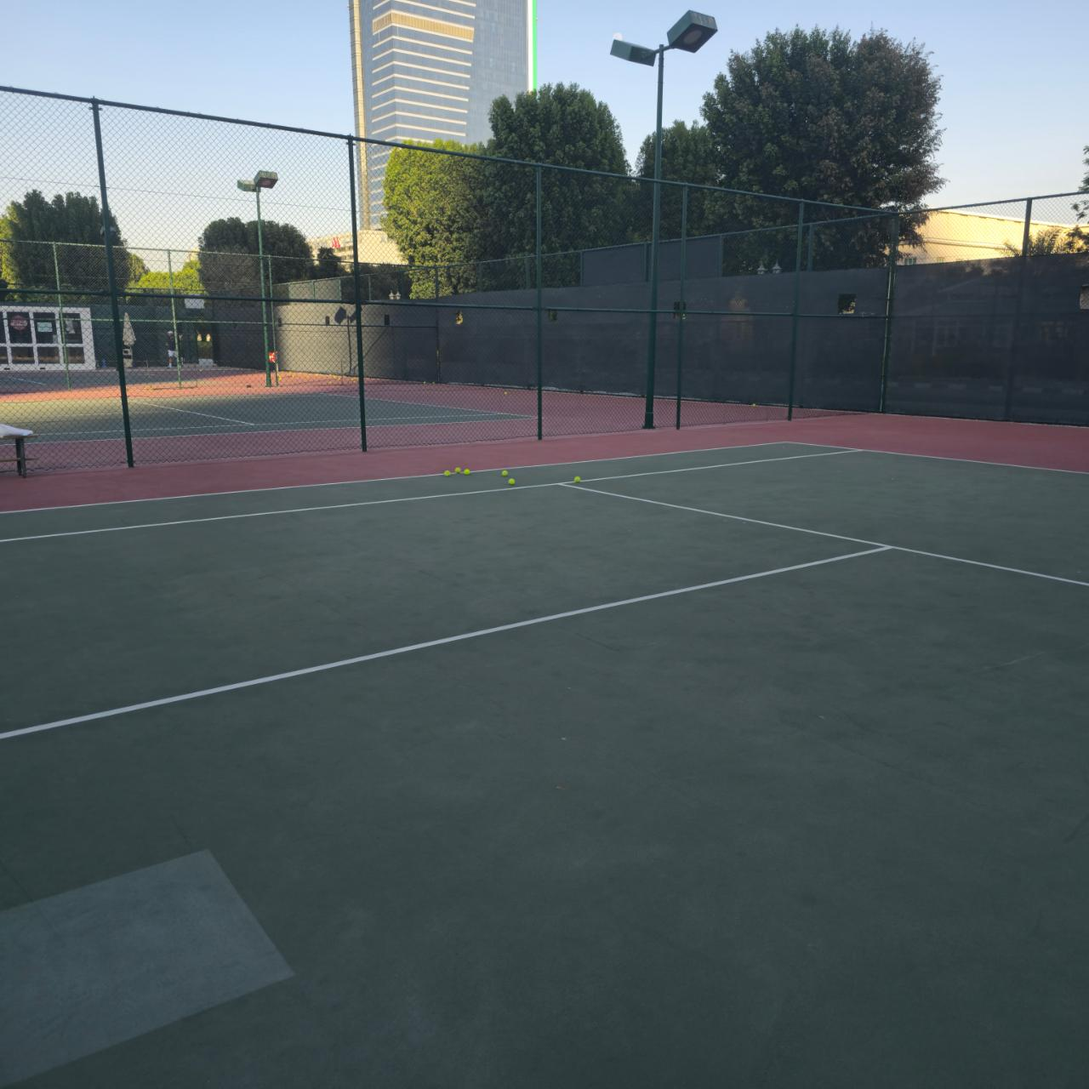tennis-ball: (458, 465, 470, 476), (442, 466, 454, 476), (572, 472, 583, 482), (505, 475, 516, 485)
